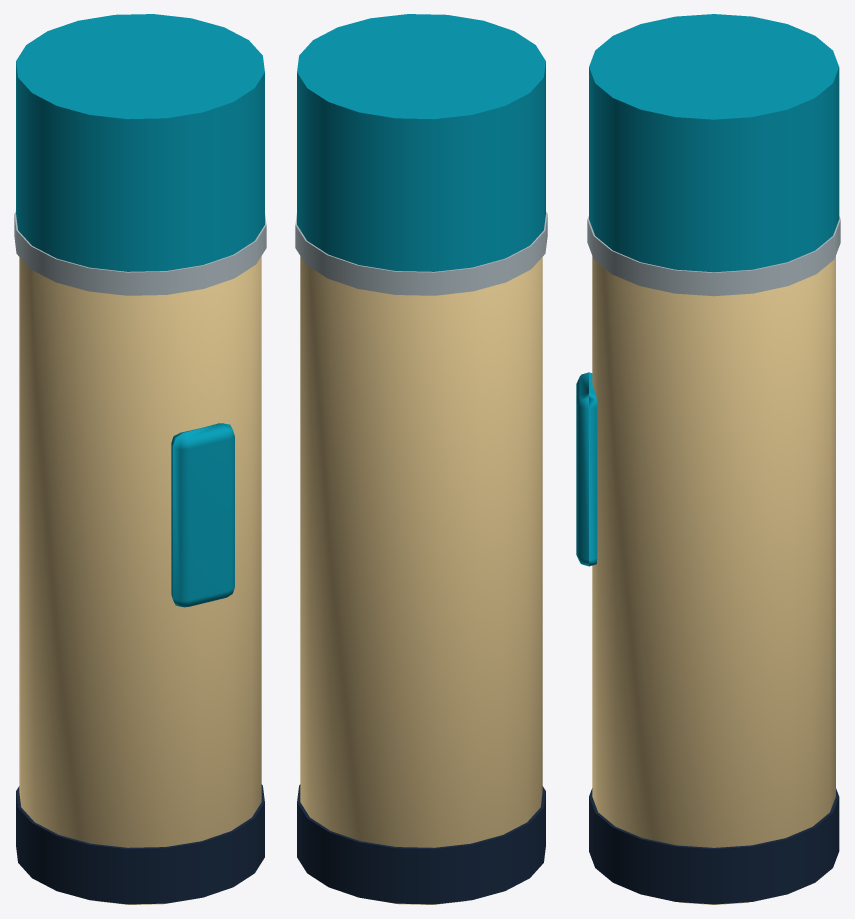
Rendered from 22_Thermos.glb.
3 views of the same model, side by side, from view 1: azimuth 30°, elevation 25°; view 2: azimuth 150°, elevation 25°; view 3: azimuth 270°, elevation 25° (orthographic).
Parts seen in each view (by area): view 1: 22_Thermos_EXPORT; view 2: 22_Thermos_EXPORT; view 3: 22_Thermos_EXPORT.
Part boxes in pixels (<box>): 22_Thermos_EXPORT: <box>14,14,266,904</box>; 22_Thermos_EXPORT: <box>295,14,547,904</box>; 22_Thermos_EXPORT: <box>576,14,840,904</box>.
Size of the model in its own units: 0.158 by 0.545 by 0.165.
